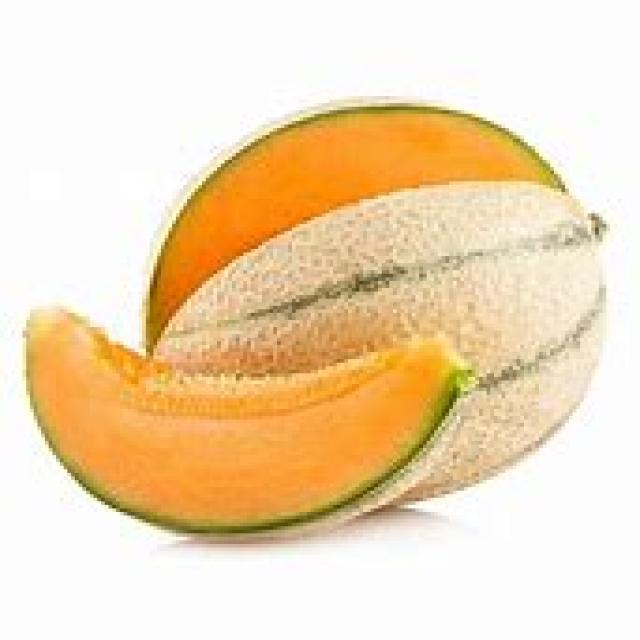Hami Melon: (139, 92, 605, 505)
